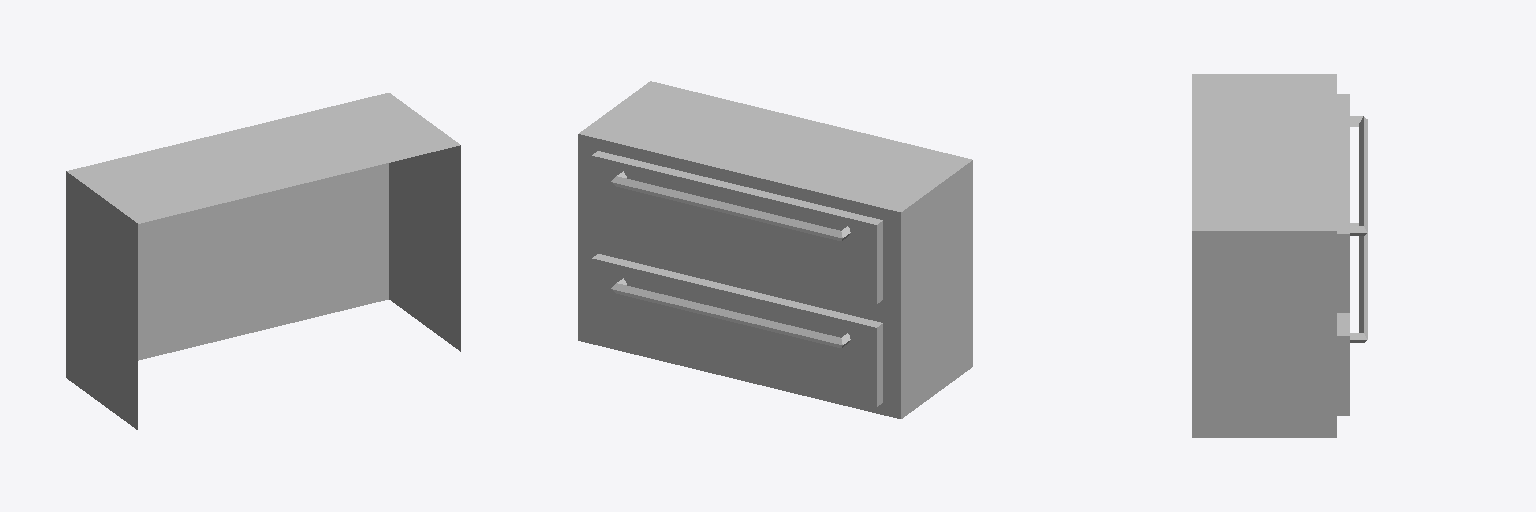
The model's file is oven1.obj.
3 renders of one model, left to right at view 1: azimuth 30°, elevation 25°; view 2: azimuth 150°, elevation 25°; view 3: azimuth 270°, elevation 25°, orthographic.
Parts seen in each view (by area): view 1: Cube.001_Cube; view 2: Cube.001_Cube; view 3: Cube.001_Cube.
Boxes of the visible parts, x1=… form: Cube.001_Cube: x1=66, y1=93, x2=460, y2=429; Cube.001_Cube: x1=578, y1=81, x2=972, y2=418; Cube.001_Cube: x1=1192, y1=74, x2=1367, y2=437.
Size of the model in its own units: 6.52 by 3.99 by 3.07.